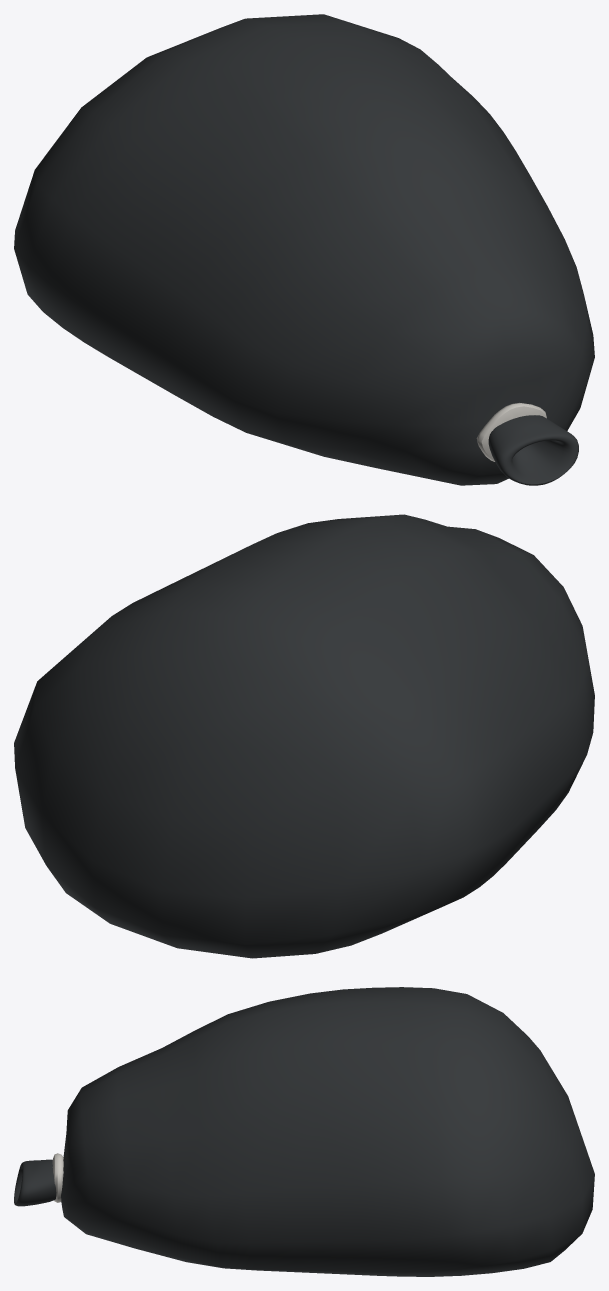
File: Bolsa_02.fbx
3 renders of one model, top to bottom at view 1: azimuth 30°, elevation 25°; view 2: azimuth 150°, elevation 25°; view 3: azimuth 270°, elevation 25°, orthographic. The views are drawn at different scales.
Parts seen in each view (by area): view 1: Bolsa_02; view 2: Bolsa_02; view 3: Bolsa_02.
Boxes of the visible parts, x1,y1,x2,y2 form: Bolsa_02: (14, 14, 594, 485); Bolsa_02: (14, 514, 594, 958); Bolsa_02: (14, 987, 594, 1276).
Size of the model in its own units: 72.39 by 46.38 by 104.
